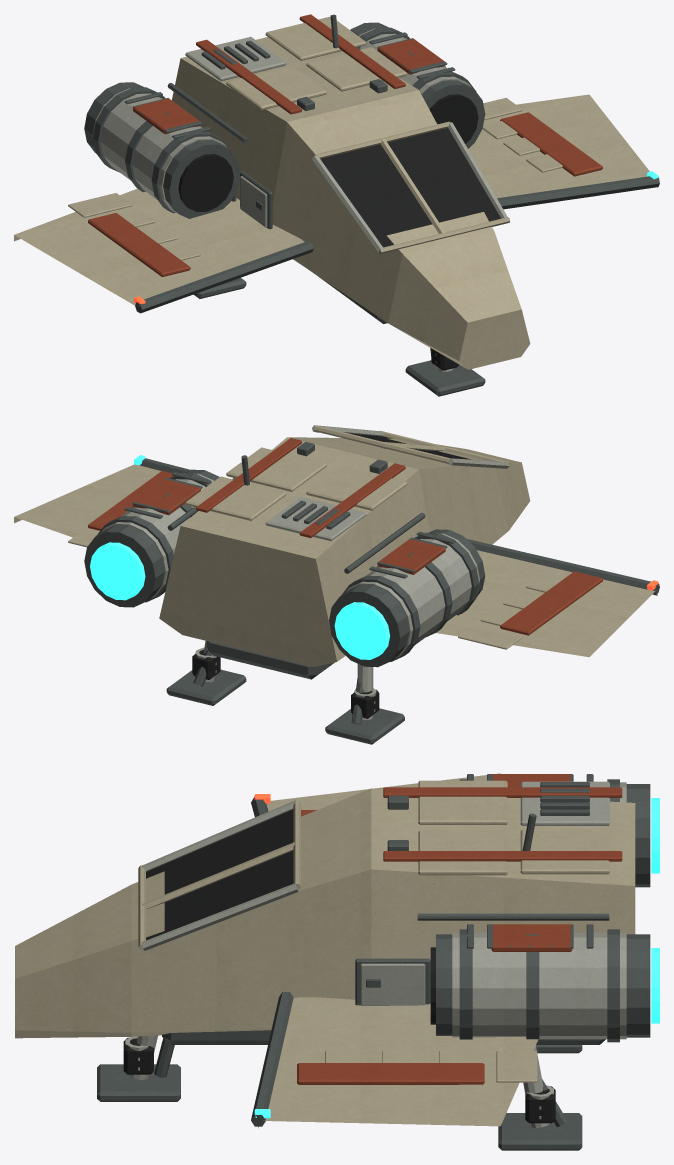
The model's file is shuttle.glb.
3 renders of one model, top to bottom at view 1: azimuth 30°, elevation 25°; view 2: azimuth 150°, elevation 25°; view 3: azimuth 270°, elevation 25°, orthographic. The views are drawn at different scales.
Parts seen in each view (by area): view 1: Ship_Hull | Population brass and hull alloy; view 2: Ship_Hull | Population brass and hull alloy, Engine_R | Population luminous cyan, Engine_L | Population luminous cyan; view 3: Ship_Hull | Population brass and hull alloy, Engine_L | Population luminous cyan, Engine_R | Population luminous cyan.
Boxes of the visible parts, x1=… form: Ship_Hull | Population brass and hull alloy: x1=14, y1=14, x2=659, y2=396; Ship_Hull | Population brass and hull alloy: x1=14, y1=425, x2=659, y2=744; Engine_R | Population luminous cyan: x1=90, y1=542, x2=145, y2=600; Engine_L | Population luminous cyan: x1=334, y1=602, x2=389, y2=659; Ship_Hull | Population brass and hull alloy: x1=15, y1=773, x2=650, y2=1150; Engine_L | Population luminous cyan: x1=651, y1=798, x2=659, y2=873; Engine_R | Population luminous cyan: x1=651, y1=948, x2=659, y2=1023.
Size of the model in its own units: 7.76 by 3.09 by 6.
Materials: 3 (1 with a texture image).
